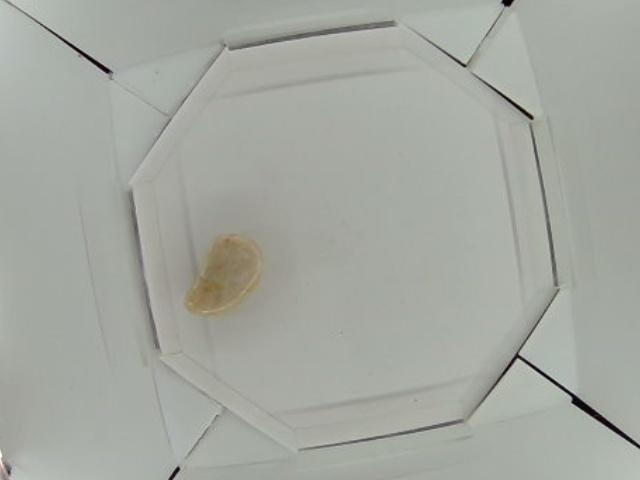Pebble: (181, 235, 264, 314)
